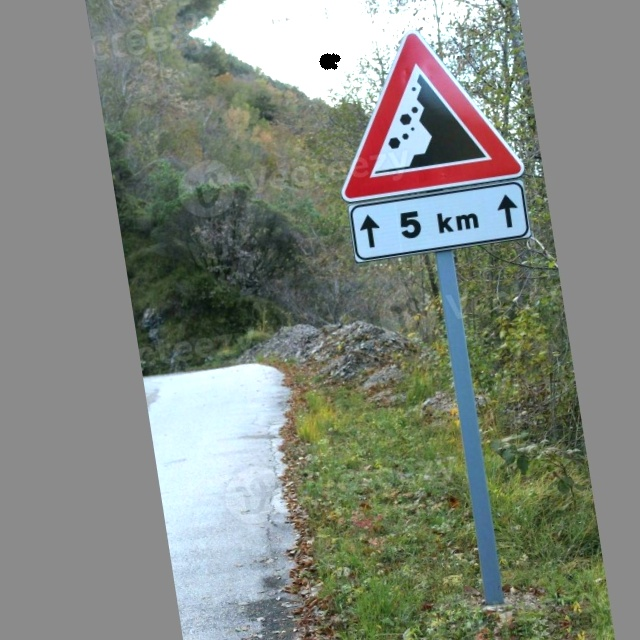Falling_Rocks: (320, 20, 523, 202)
